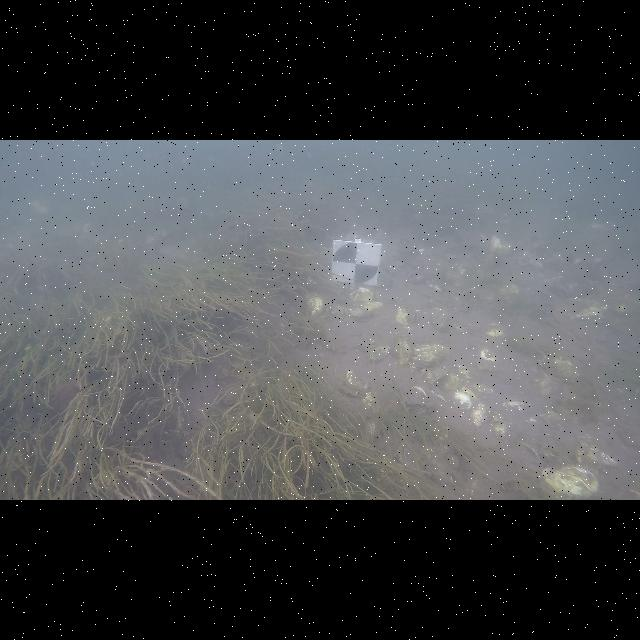Oyster-Closed: (541, 466, 599, 498), (419, 344, 449, 368), (346, 367, 370, 393), (306, 295, 329, 318), (394, 301, 414, 326), (491, 415, 511, 439), (395, 336, 411, 365), (454, 389, 476, 409), (368, 341, 390, 361), (421, 368, 448, 384), (471, 404, 488, 426), (350, 288, 372, 304), (502, 401, 529, 411), (455, 365, 472, 379), (362, 391, 375, 409), (472, 384, 492, 394)
Oyster-Open: (346, 301, 384, 323), (409, 310, 420, 326)
